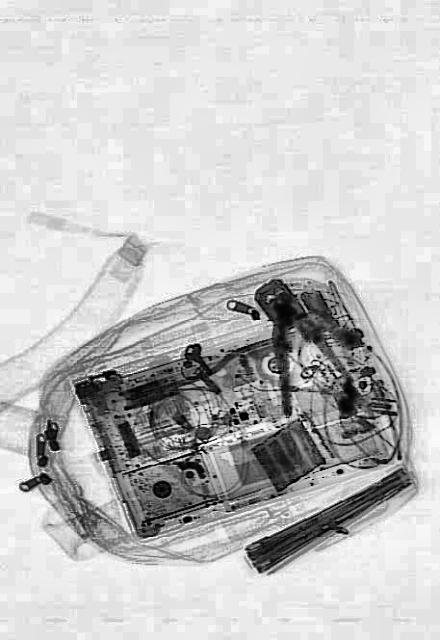Pliers: (231, 256, 354, 434)
